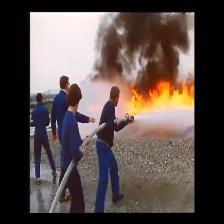fire: (132, 65, 201, 113)
